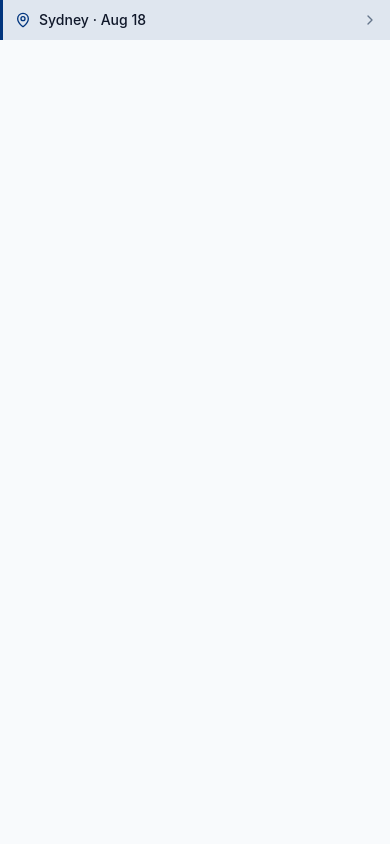
Test: TripSummarySheet — verified context › shows friendly date display in sheet (V0: no raw YYYY-MM-DD)
This screenshot has width=390, height=844.
Click the button at (93, 20), box x1=0 y1=0 x2=389 y2=40
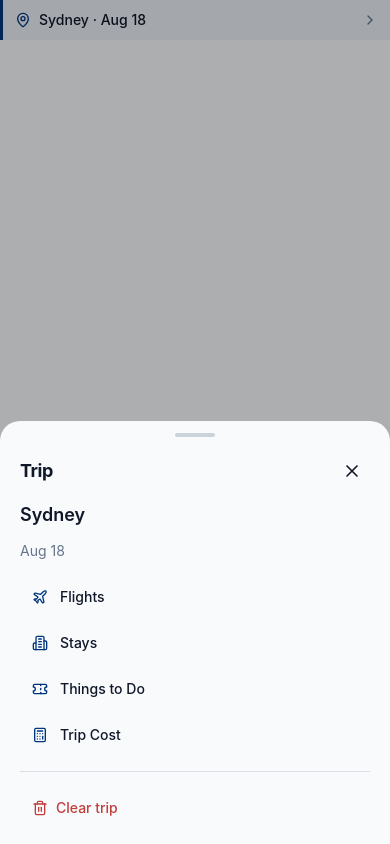
Now the dialog shows "Aug 18", box x1=20 y1=542 x2=65 y2=559
